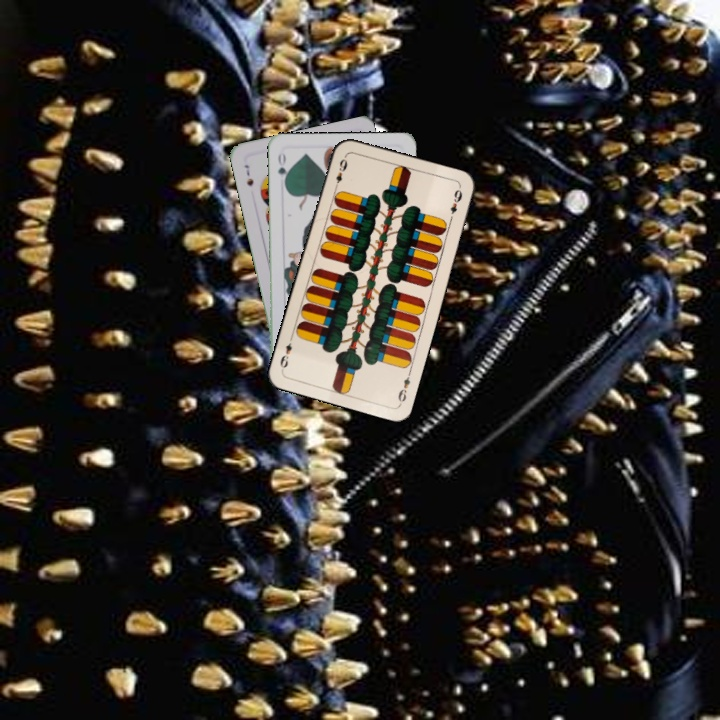E9: (394, 367, 414, 407), (330, 155, 350, 192)
GO: (274, 149, 291, 189)
S7: (240, 161, 256, 189)
